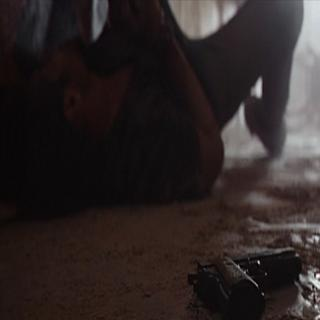gun: (195, 236, 300, 314)
